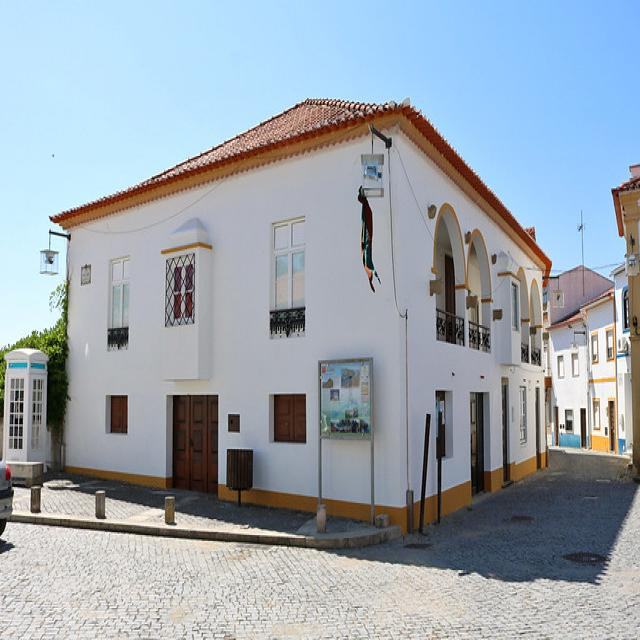Normal_building: (44, 92, 556, 538)
